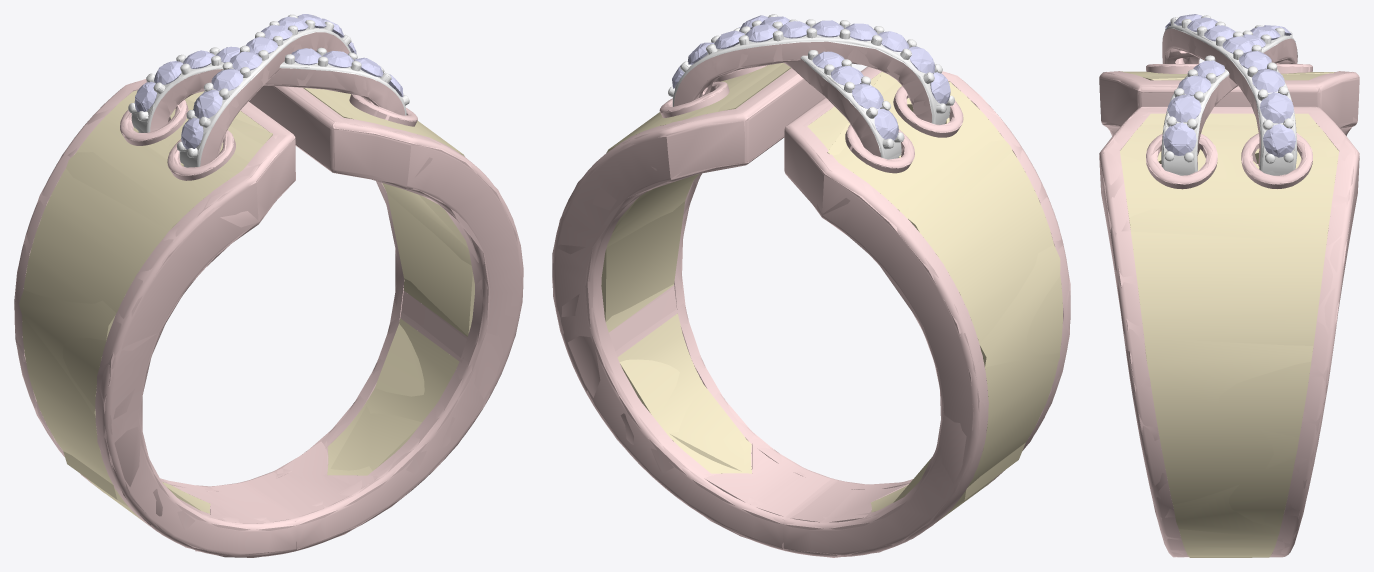
File: DLR-D000677831.glb
The picture shows the model from 3 angles, left to right: view 1: azimuth 30°, elevation 25°; view 2: azimuth 150°, elevation 25°; view 3: azimuth 270°, elevation 25°; orthographic projection.
Visible parts, largest first — view 1: highPolyMesh, lowPolyMesh; view 2: highPolyMesh, lowPolyMesh; view 3: highPolyMesh, lowPolyMesh.
Part boxes in pixels (x1,y1,x2,y2): highPolyMesh: [14, 14, 523, 556]; lowPolyMesh: [14, 14, 523, 557]; highPolyMesh: [552, 14, 1070, 556]; lowPolyMesh: [552, 14, 1070, 557]; highPolyMesh: [1099, 14, 1359, 557]; lowPolyMesh: [1099, 14, 1359, 557].
Size of the model in its own units: 0.0217 by 0.0246 by 0.0116.
